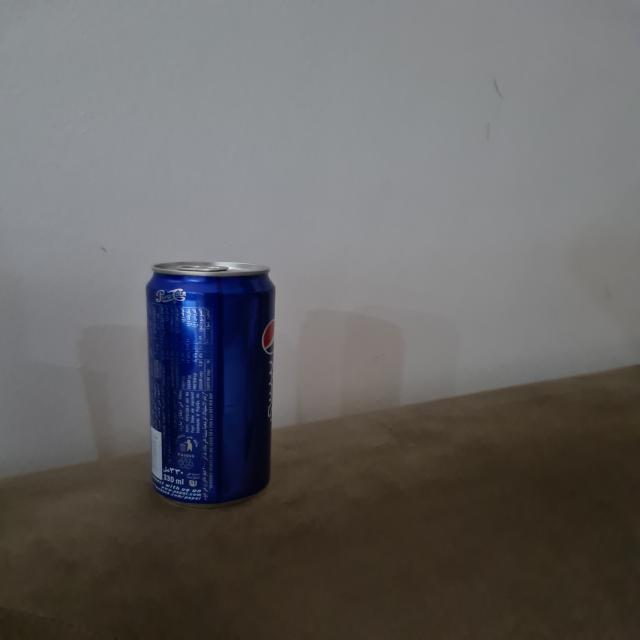trash: (134, 258, 280, 504)
